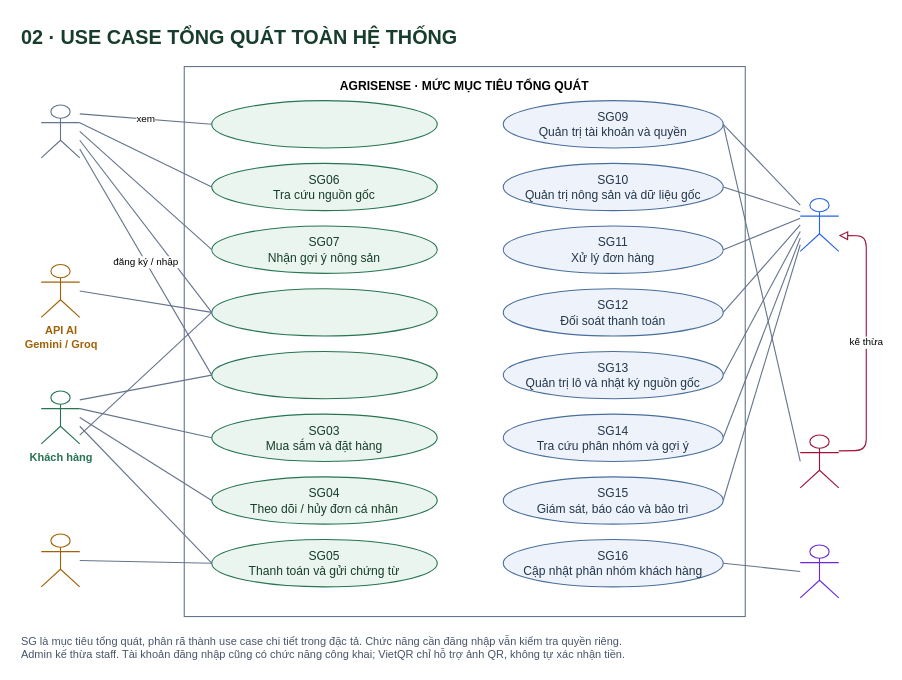
This 902x680 diagram has some shape labels left out. Each missing label, with the centre of its shape:
Dịch vụ ảnh VietQR: the point at 60,560
Khách vãng lai: the point at 60,131
Người vận hành quyền CLI: the point at 819,571
Nhân viên: the point at 819,224
Quản trị viên (superuser): the point at 819,461
SG01 Sử dụng tài khoản: the point at 324,374
SG02 Khám phá và đánh giá nông sản: the point at 324,124
SG08 Tư vấn và quản lý hội thoại: the point at 324,312
